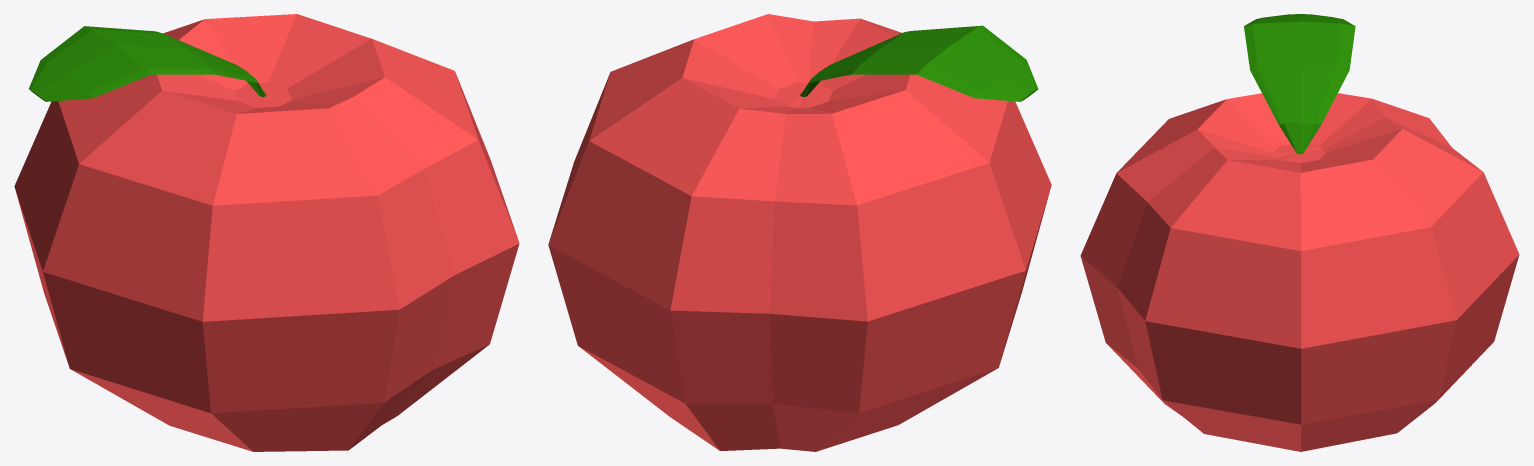
Rendered from peach01.gltf.
The picture shows the model from 3 angles, left to right: view 1: azimuth 30°, elevation 25°; view 2: azimuth 150°, elevation 25°; view 3: azimuth 270°, elevation 25°; orthographic projection. The views are drawn at different scales.
Visible parts, largest first — view 1: Cylinder; view 2: Cylinder; view 3: Cylinder.
Part boxes in pixels (bbox=[...]): Cylinder: bbox=[14, 14, 519, 451]; Cylinder: bbox=[548, 14, 1051, 451]; Cylinder: bbox=[1080, 14, 1519, 451].
Size of the model in its own units: 0.0899 by 0.0803 by 0.0898.
Materials: 1 (1 with a texture image).
